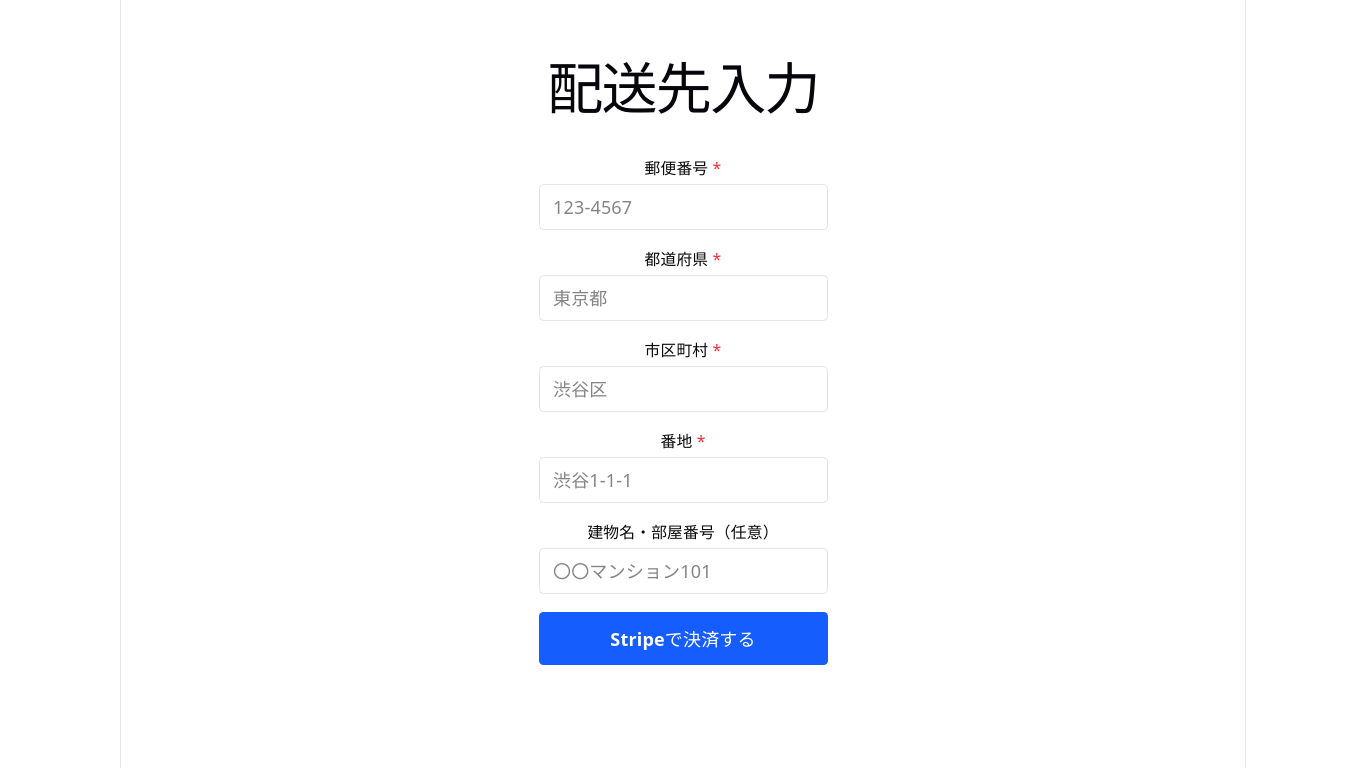
Scenario: CheckoutPage › 必須フィールドが空の場合はバリデーションエラーが表示されること
Click the button "Stripeで決済する" at (683, 639), box [538,612,828,665]
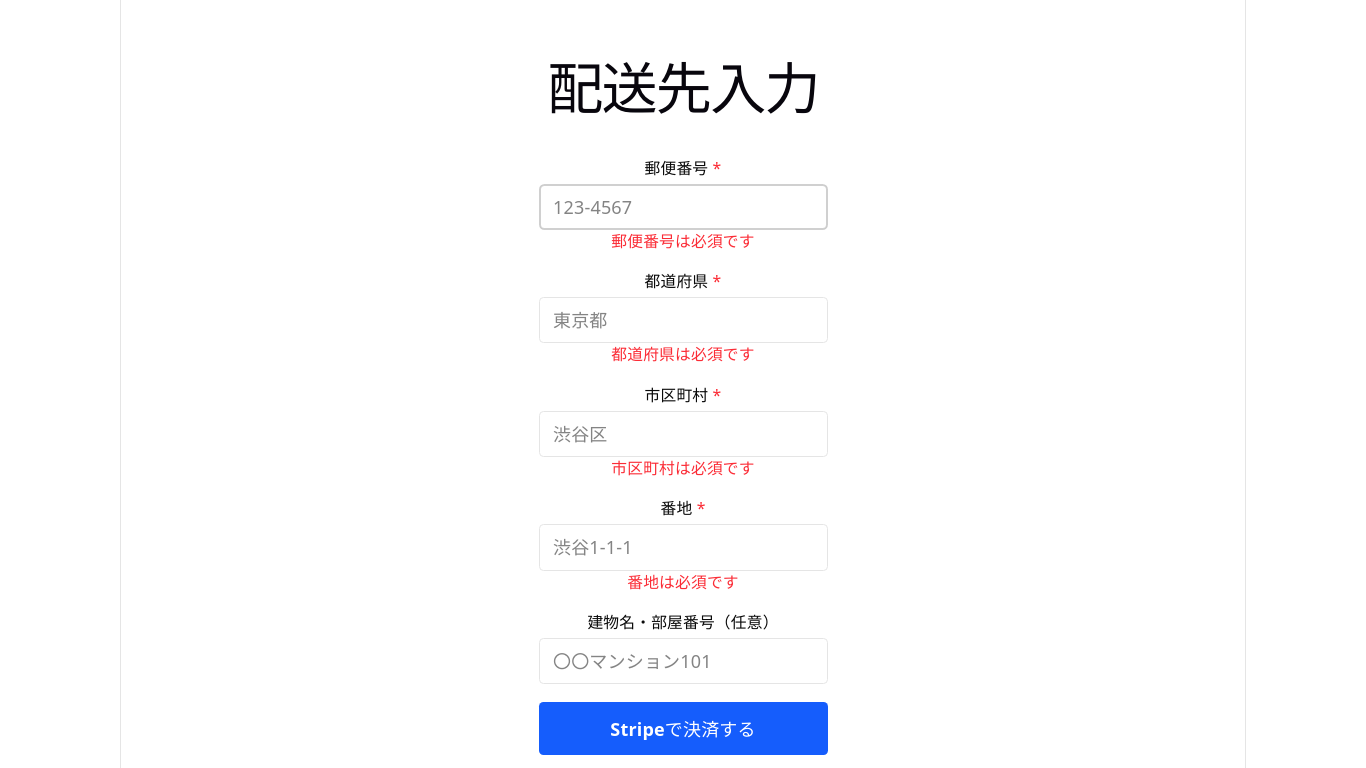
Now the text "郵便番号は必須です" is shown, box [611,230,755,252]
